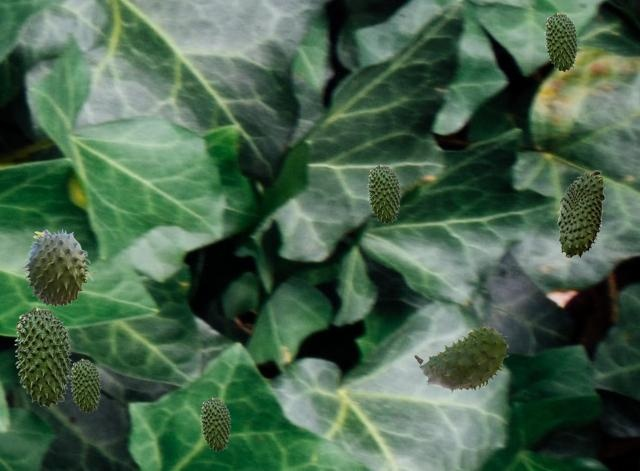guyabano: (414, 326, 508, 393), (20, 228, 96, 306), (14, 306, 71, 407), (557, 170, 604, 257), (544, 12, 577, 71), (367, 164, 400, 223), (70, 358, 100, 412), (200, 397, 230, 451)
